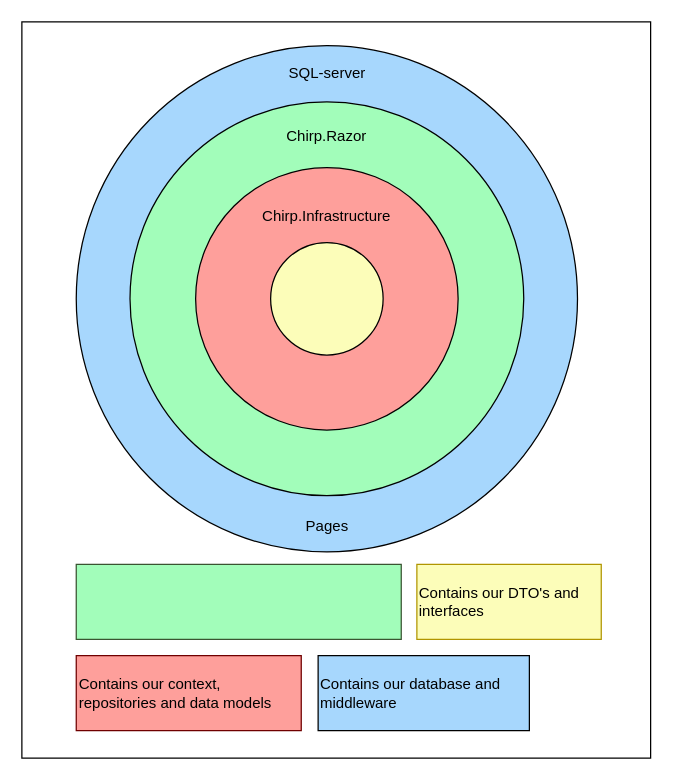
The diagram is 673 pixels wide and 780 high, and some of its shapes have lost their labels. Each missing label, with the box of its shape:
Chirp.Core: (269, 241, 383, 355)
Contains razor pages, their script, and the script that runs our program: (75, 563, 401, 639)
